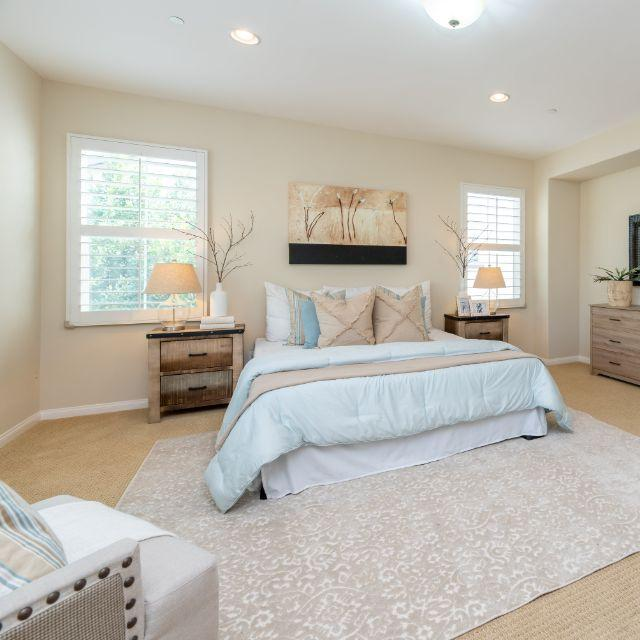bed: (226, 336, 558, 496)
lamp: (137, 255, 200, 331), (467, 260, 508, 317)
pillow: (264, 287, 372, 350), (310, 293, 377, 344), (372, 286, 427, 343)
table: (143, 321, 241, 411), (585, 304, 640, 382)
window: (68, 134, 213, 322), (463, 180, 530, 310)
